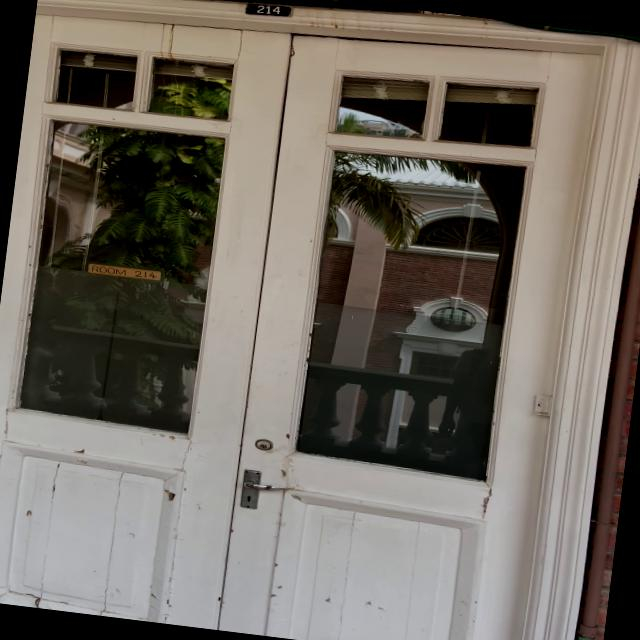room214: (239, 0, 295, 19)
